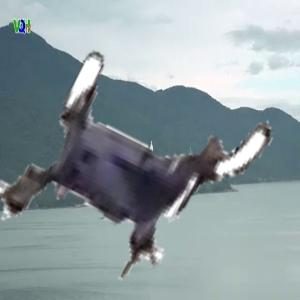drone: (3, 41, 258, 296)
